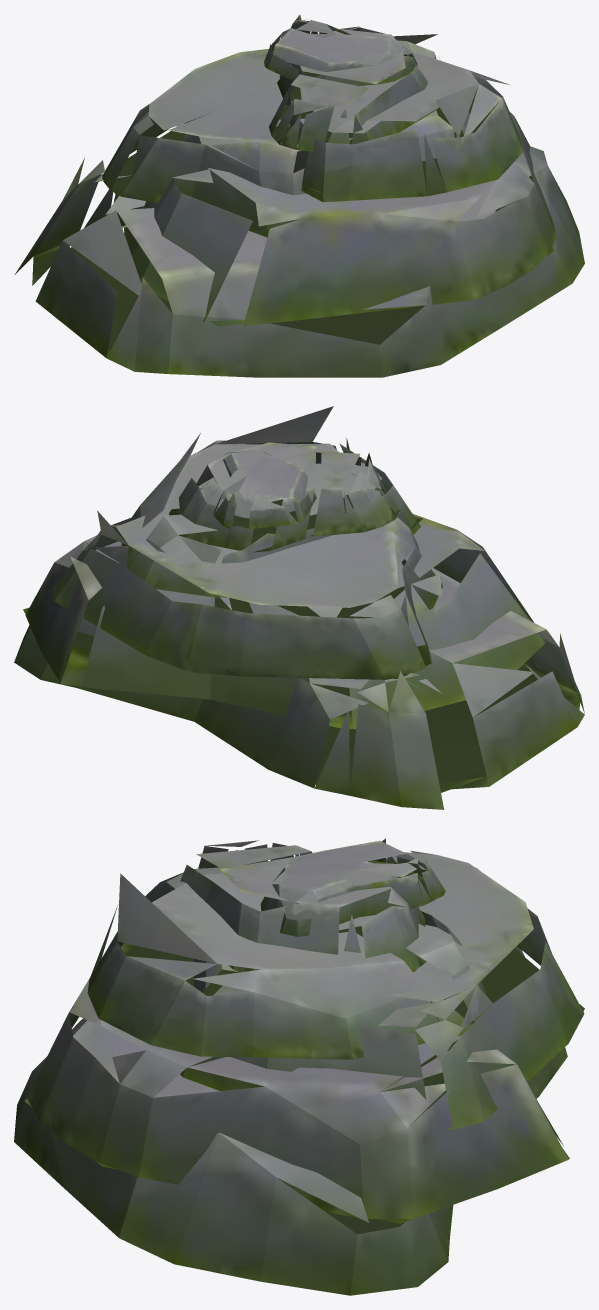
The model's file is kemah-tugu.glb.
3 renders of one model, top to bottom at view 1: azimuth 30°, elevation 25°; view 2: azimuth 150°, elevation 25°; view 3: azimuth 270°, elevation 25°, orthographic. The views are drawn at different scales.
Visible parts, largest first — view 1: Pebble_Round_1, Pebble_Round_2, Pebble_Round_3, Pebble_Round_4, Pebble_Round_5, Pebble_Round_1.001; view 2: Pebble_Round_3, Pebble_Round_1, Pebble_Round_2, Pebble_Round_5, Pebble_Round_4, Pebble_Round_1.001; view 3: Pebble_Round_2, Pebble_Round_4, Pebble_Round_1, Pebble_Round_3, Pebble_Round_5, Pebble_Round_1.001.
Part boxes in pixels (x1,y1,x2,y2): Pebble_Round_1: [14, 146, 584, 377]; Pebble_Round_2: [123, 112, 556, 326]; Pebble_Round_3: [101, 34, 469, 237]; Pebble_Round_4: [279, 51, 523, 202]; Pebble_Round_5: [269, 26, 437, 151]; Pebble_Round_1.001: [264, 15, 417, 86]; Pebble_Round_3: [52, 497, 442, 679]; Pebble_Round_1: [14, 568, 584, 809]; Pebble_Round_2: [23, 514, 544, 729]; Pebble_Round_5: [169, 442, 399, 552]; Pebble_Round_4: [119, 406, 422, 597]; Pebble_Round_1.001: [211, 450, 316, 529]; Pebble_Round_2: [24, 931, 569, 1223]; Pebble_Round_4: [87, 867, 489, 1059]; Pebble_Round_1: [14, 946, 567, 1295]; Pebble_Round_3: [180, 850, 584, 1130]; Pebble_Round_5: [180, 840, 426, 972]; Pebble_Round_1.001: [260, 838, 445, 936].
Bounding box in the file's own units: 0.84 × 0.3646 × 0.6356.
Materials: 6 (6 with a texture image).
